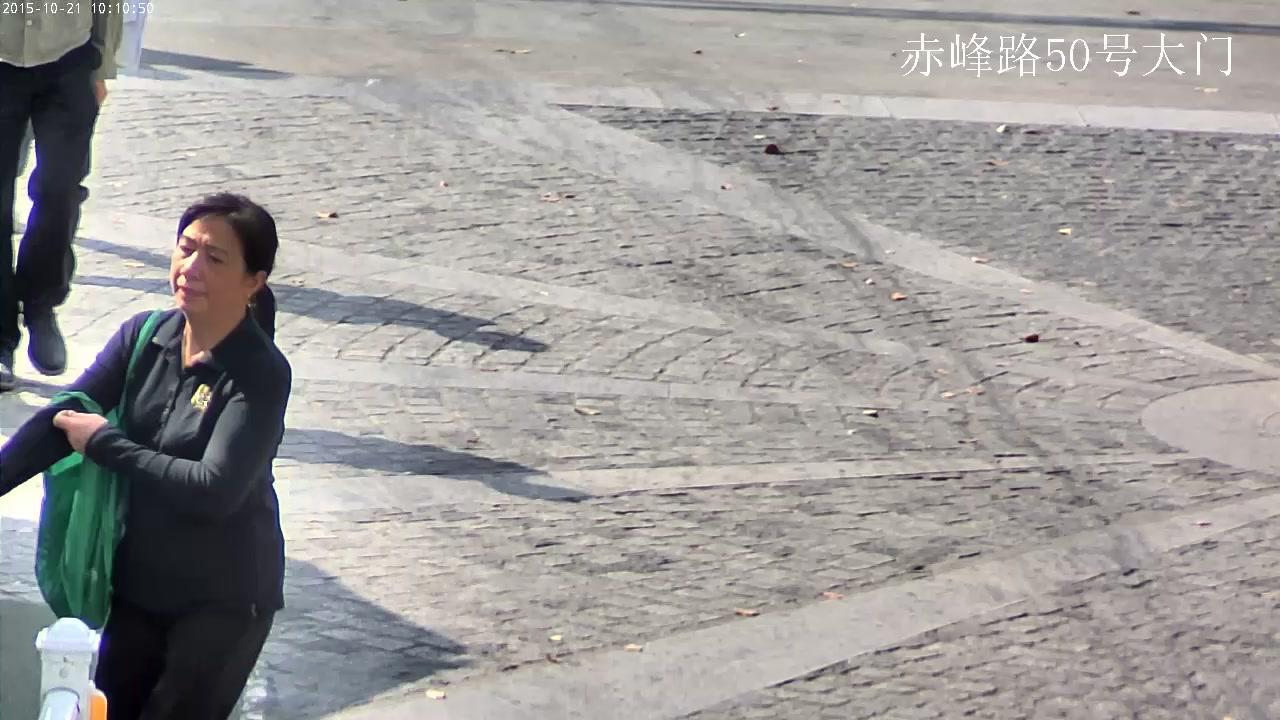person: (0, 191, 291, 720), (0, 0, 152, 390)
